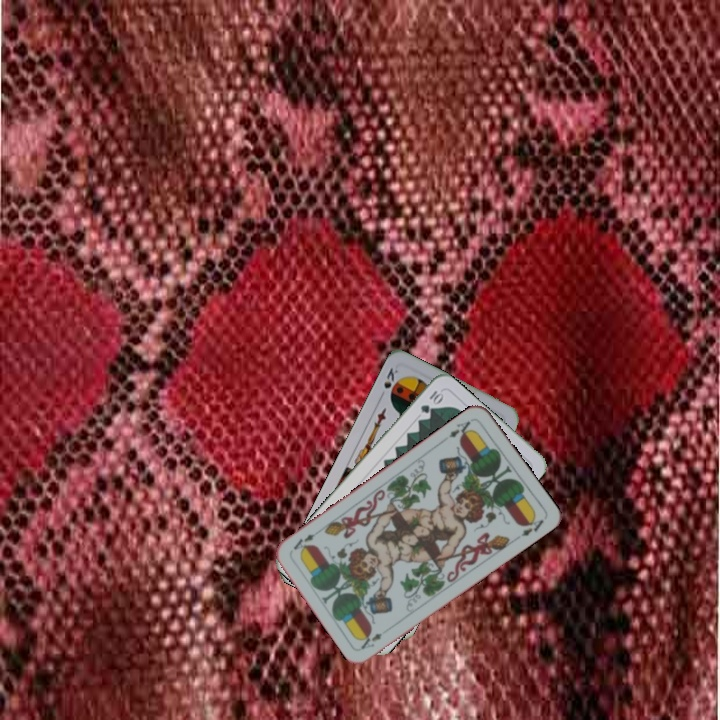EA: (445, 417, 475, 441), (357, 629, 384, 652)
G10: (416, 386, 446, 416)
SK: (380, 363, 401, 391)
